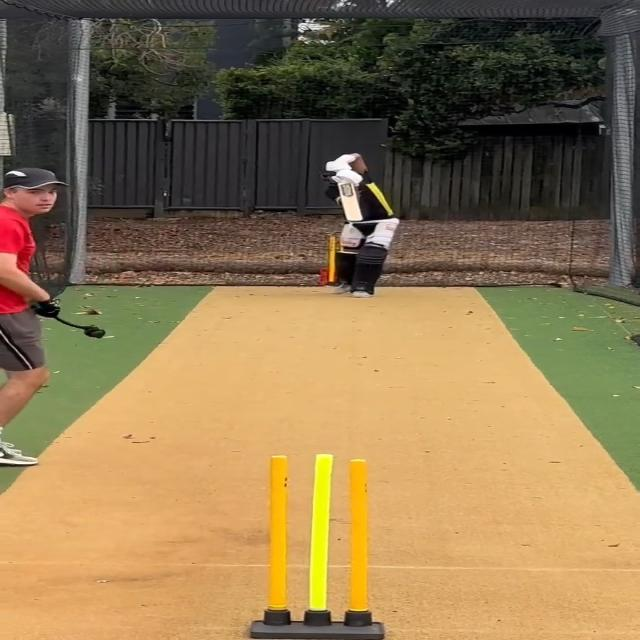stump: (251, 451, 384, 640)
